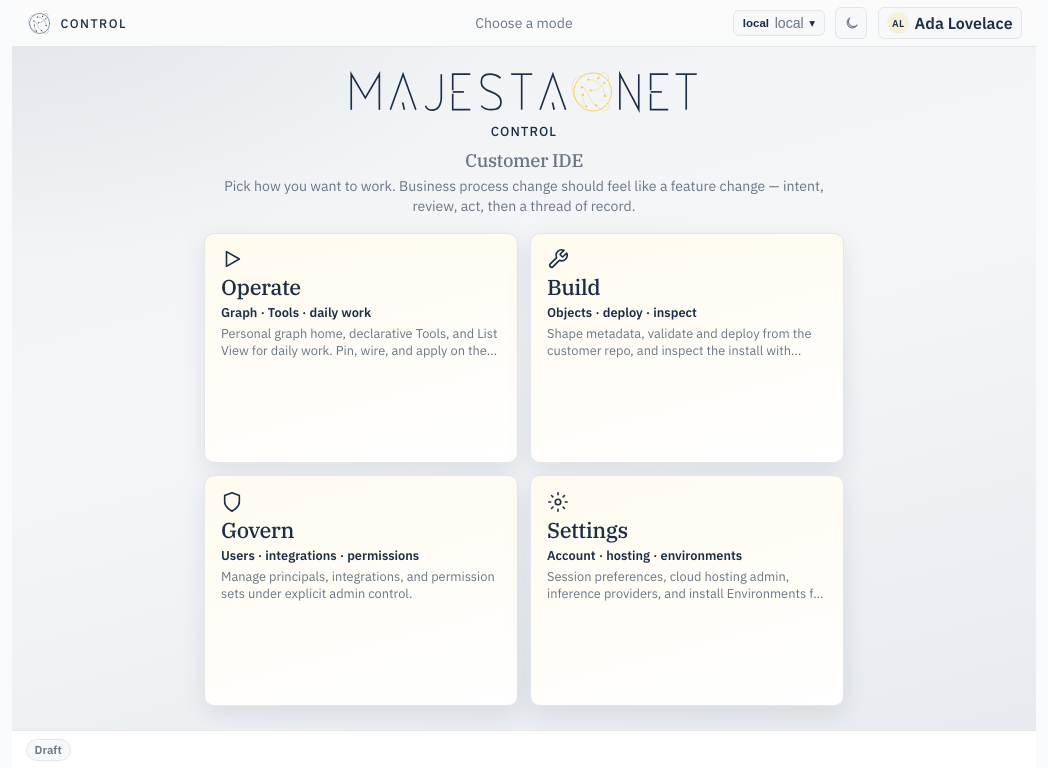
App › enters Build with inspect tools on an empty workspace
Expected: the element with test id "mode-launcher" is shown, [204,67,844,706]
Step 1. Click the button with test id "mode-launch-build" → (687, 348), box [530,233,844,464]
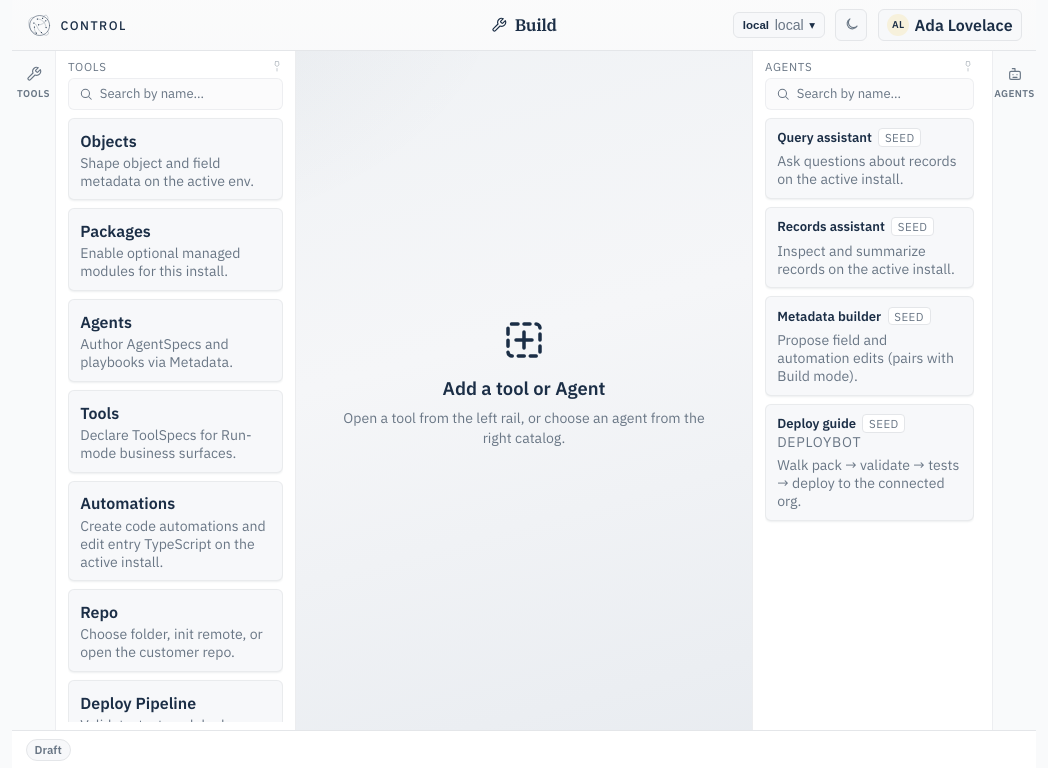
Now the text with test id "active-mode" reads "Build", box [515,14,557,36]
Now the element with test id "workspace-empty" is shown, box [343,316,705,448]
Now the element with test id "workspace-tool-rail" is shown, box [12,51,296,730]
